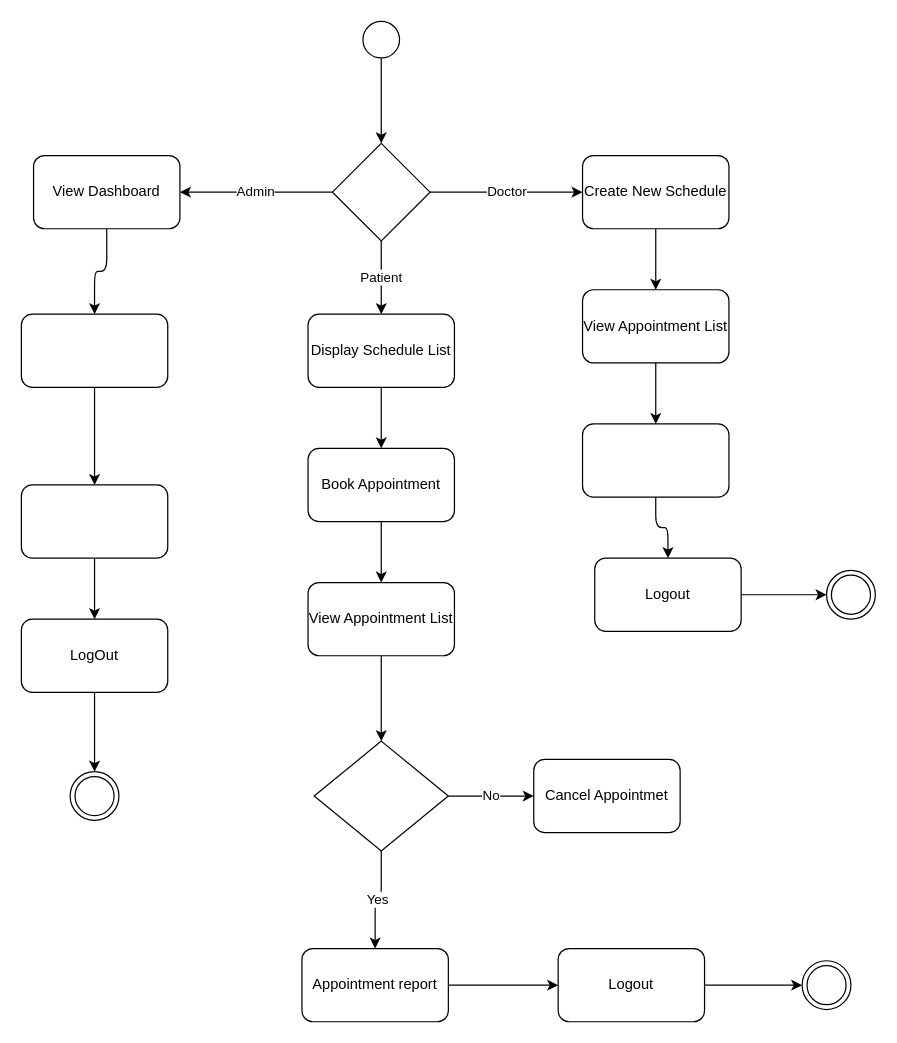
The diagram is 897 pixels wide and 1043 high, and some of its shapes have lost their labels. The centre of each missing label's shape, as x and y in pixels:
Comment on Patients Report: the point at 655,460
Continue with Appointment: the point at 380,795
Manage Doctors, Patients and Schedules: the point at 94,350
User: the point at 380,191
View Appointment list and Activate or deactivate them: the point at 94,521
